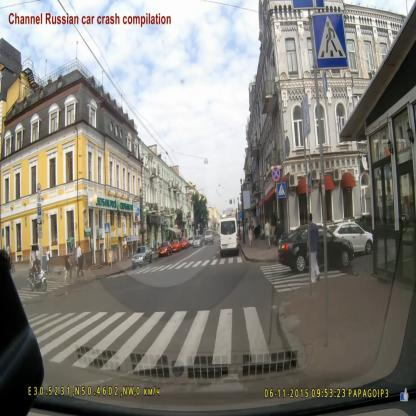crosswalk: (34, 309, 282, 378), (259, 259, 345, 295), (113, 256, 244, 276), (20, 278, 68, 304)
